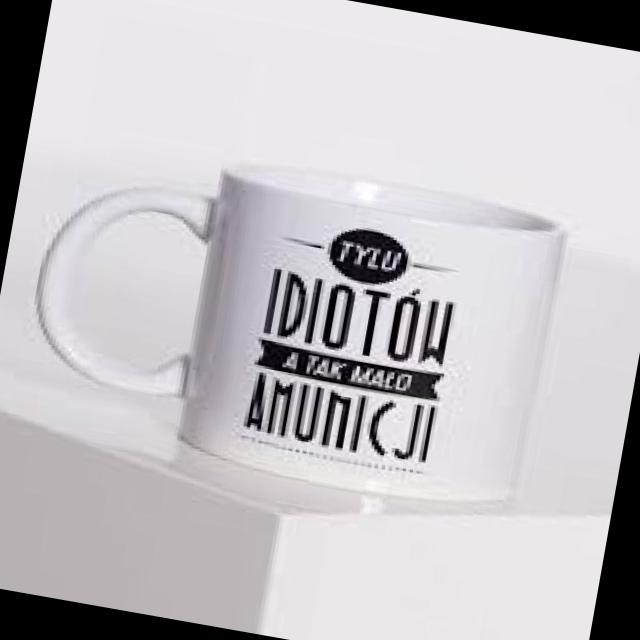Coffee Mug: (14, 126, 570, 519)
